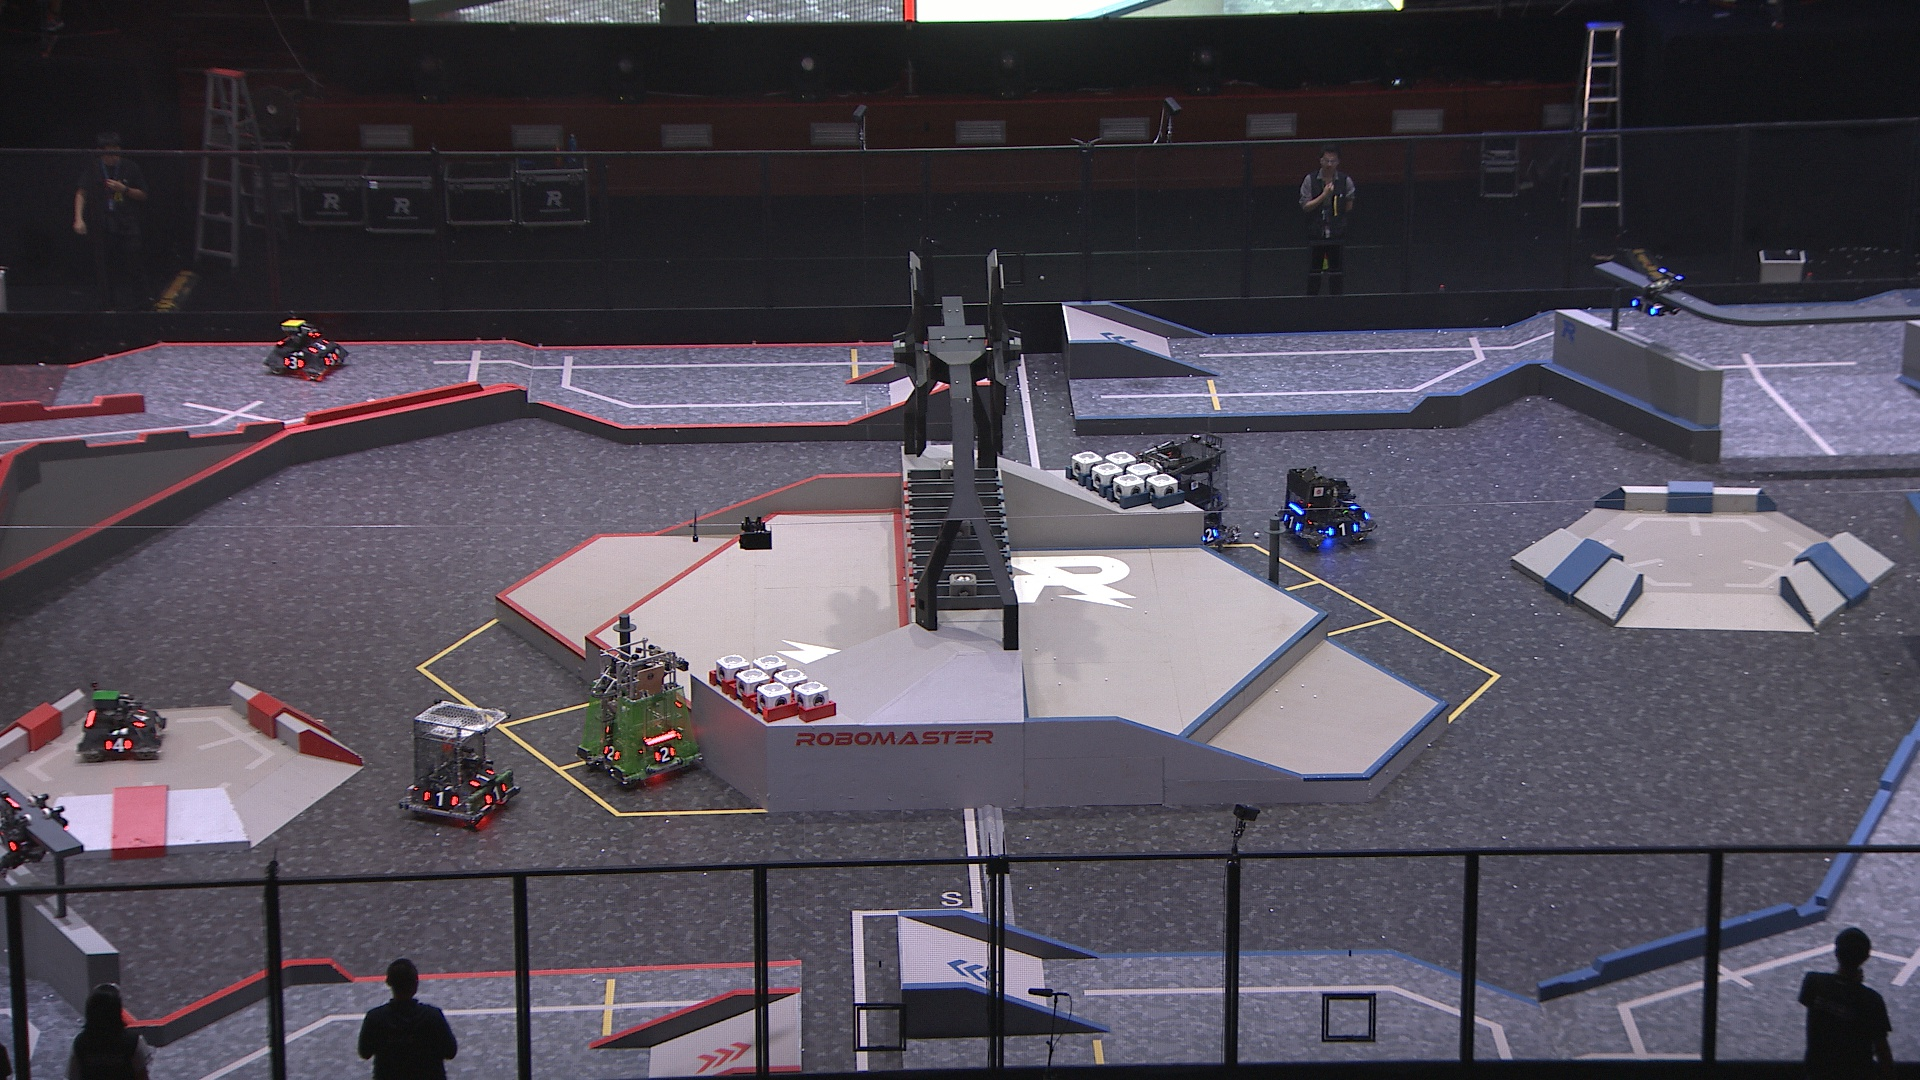armor: (422, 789, 460, 807), (465, 766, 496, 789), (483, 781, 509, 804), (1327, 520, 1360, 538), (1631, 297, 1660, 316), (102, 736, 135, 752), (651, 744, 675, 764), (280, 353, 305, 371), (131, 705, 150, 727), (600, 742, 622, 761), (306, 335, 330, 352), (1337, 496, 1364, 510), (1280, 514, 1302, 531), (320, 349, 339, 367), (1201, 527, 1220, 545)
car: (574, 638, 703, 790), (398, 698, 522, 828), (1129, 433, 1240, 553), (1275, 465, 1379, 553), (76, 688, 167, 764), (262, 315, 347, 378)
watcher: (1629, 266, 1685, 318)
